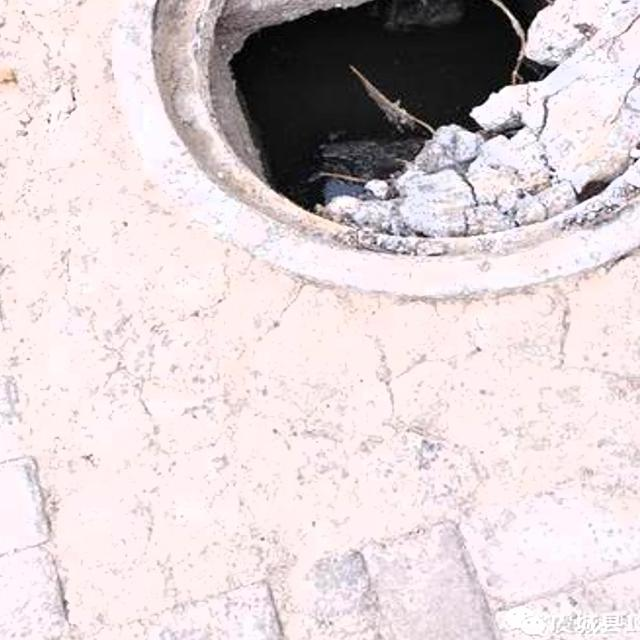broke: (16, 0, 640, 319)
